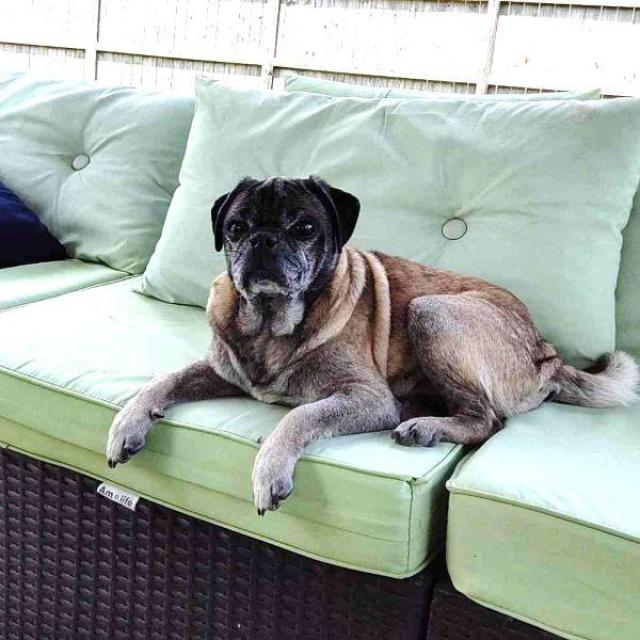pug_dog: (199, 168, 366, 342)
